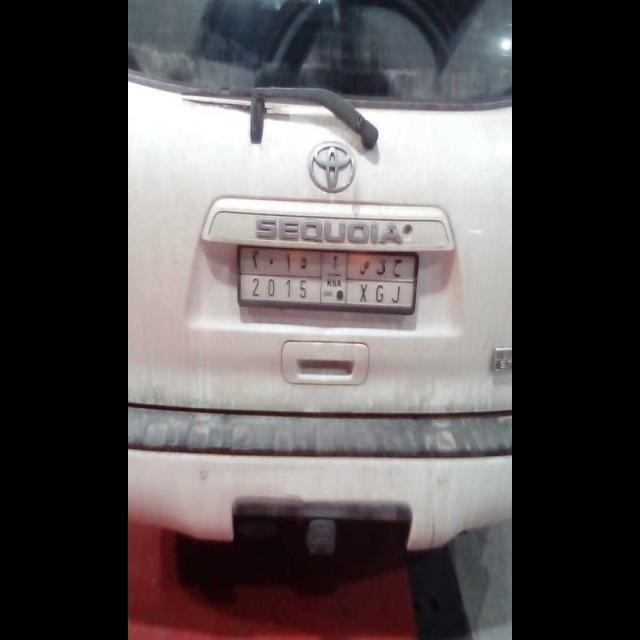license_plate: (237, 274, 418, 315)
